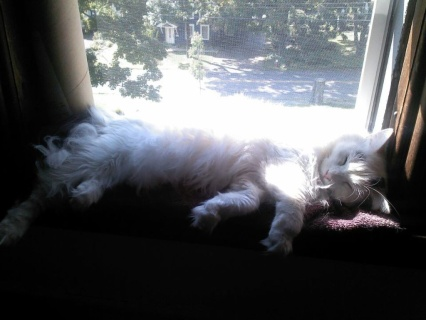Cat: (0, 97, 396, 247)
